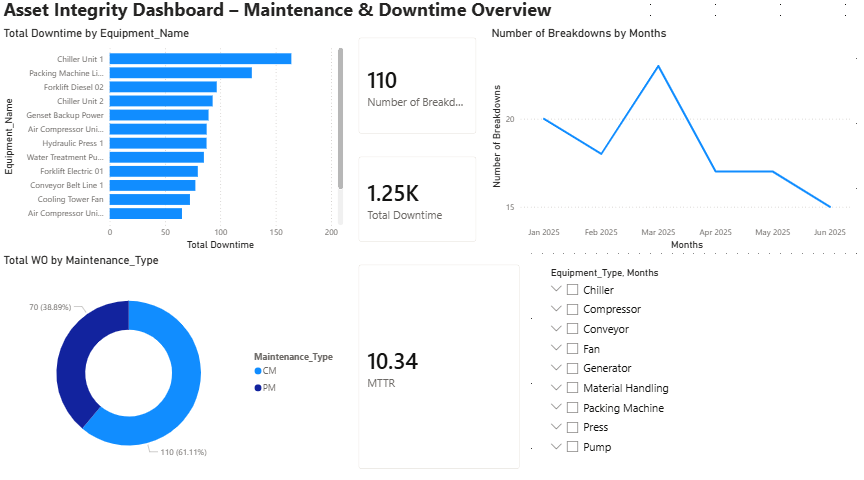

Layout of this report page (visuals, bound fields, positions):
{"tool":"powerbi","page":{"name":"Page 1","canvas":[1280,720],"ordinal":0},"visuals":[{"type":"cardVisual","fields":{"Data":["DateTable.Total Downtime"]},"box":[512,224,208,160],"z":0},{"type":"cardVisual","fields":{"Data":["DateTable.Jumlah Breakdown"]},"box":[512,48,208,176],"z":1000},{"type":"cardVisual","fields":{"Data":["DateTable.MTTR"]},"box":[512,384,272,336],"z":2000},{"type":"clusteredBarChart","fields":{"Category":["maintenance_downtime_data.Equipment_Name"],"Y":["DateTable.Total Downtime"]},"box":[0,48,512,336],"z":3000},{"type":"donutChart","fields":{"Category":["maintenance_downtime_data.Maintenance_Type"],"Y":["DateTable.Total WO"]},"box":[0,384,512,336],"z":4000},{"type":"lineChart","fields":{"Y":["DateTable.Jumlah Breakdown"],"Category":["DateTable.BulanNama"]},"box":[720,48,544,336],"z":5000},{"type":"slicer","fields":{"Values":["maintenance_downtime_data.Equipment_Type","DateTable.BulanNama"]},"box":[800,400,480,320],"z":6000},{"type":"textbox","box":[0,0,912,48],"z":7000}]}

Visuals, with their boxes in screenshot pixels (x1, y1, x2, y2), scaled from the page's 1280x720 canvas onto the 864x480 screenshot:
cardVisual - DateTable.Total Downtime: bbox(346, 149, 486, 256)
cardVisual - DateTable.Jumlah Breakdown: bbox(346, 32, 486, 149)
cardVisual - DateTable.MTTR: bbox(346, 256, 529, 479)
clusteredBarChart - maintenance_downtime_data.Equipment_Name x DateTable.Total Downtime: bbox(0, 32, 346, 256)
donutChart - maintenance_downtime_data.Maintenance_Type x DateTable.Total WO: bbox(0, 256, 346, 479)
lineChart - DateTable.Jumlah Breakdown x DateTable.BulanNama: bbox(486, 32, 853, 256)
slicer - maintenance_downtime_data.Equipment_Type x DateTable.BulanNama: bbox(540, 267, 863, 479)
textbox: bbox(0, 0, 616, 32)
